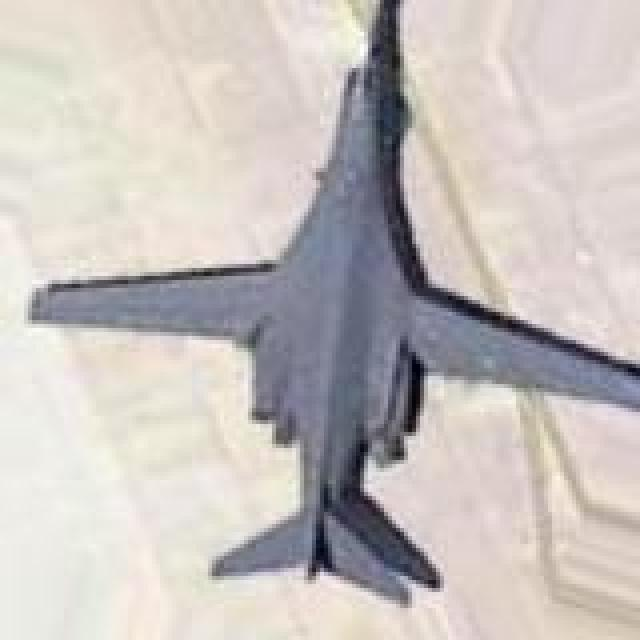B-1_TopDown: (24, 0, 636, 612)
